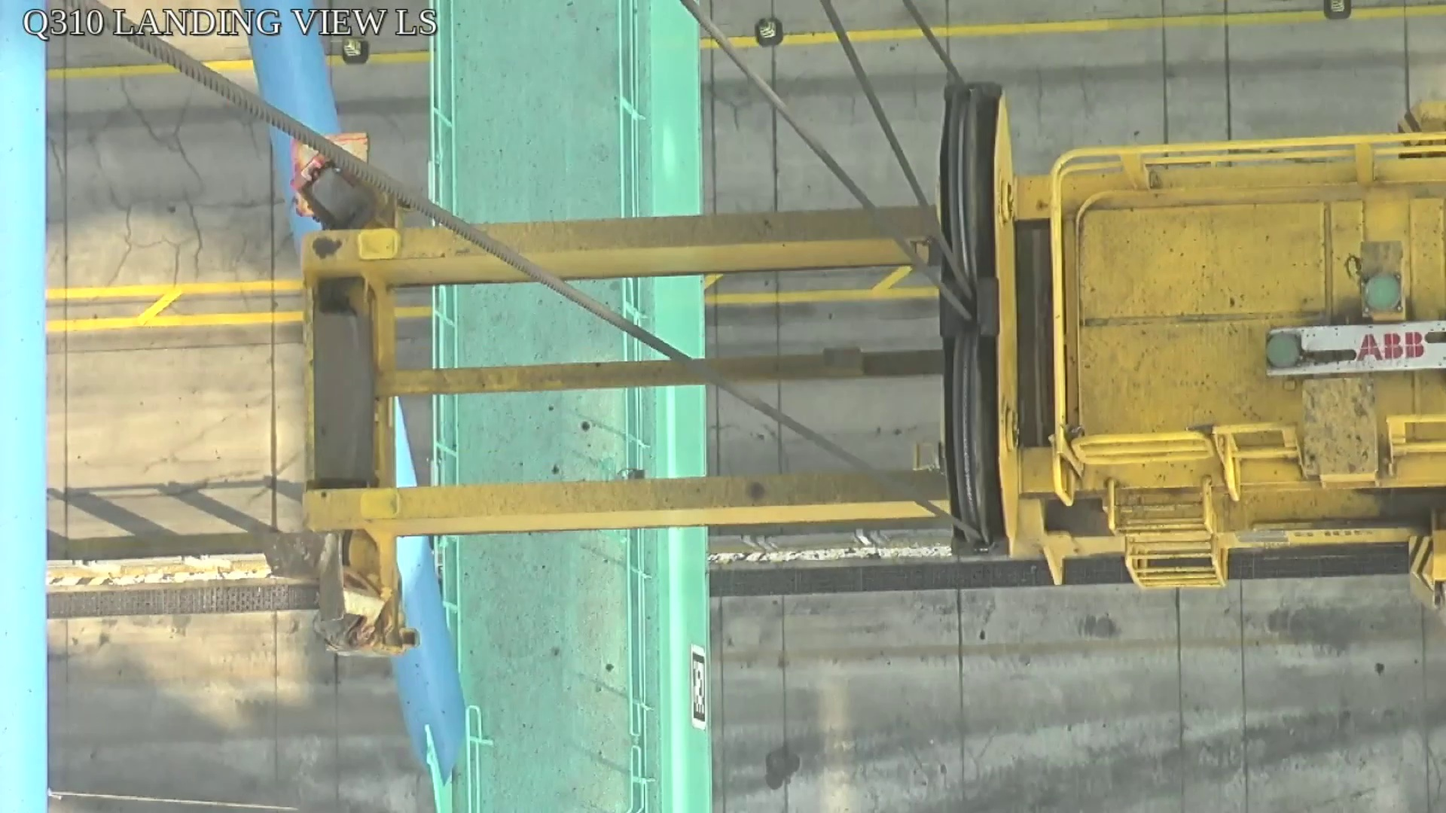aa: (933, 81, 1024, 562)
